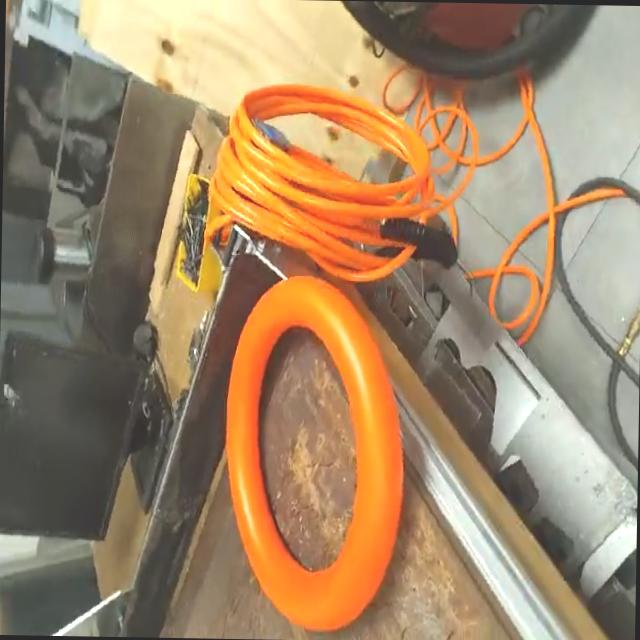note: (216, 272, 411, 634)
